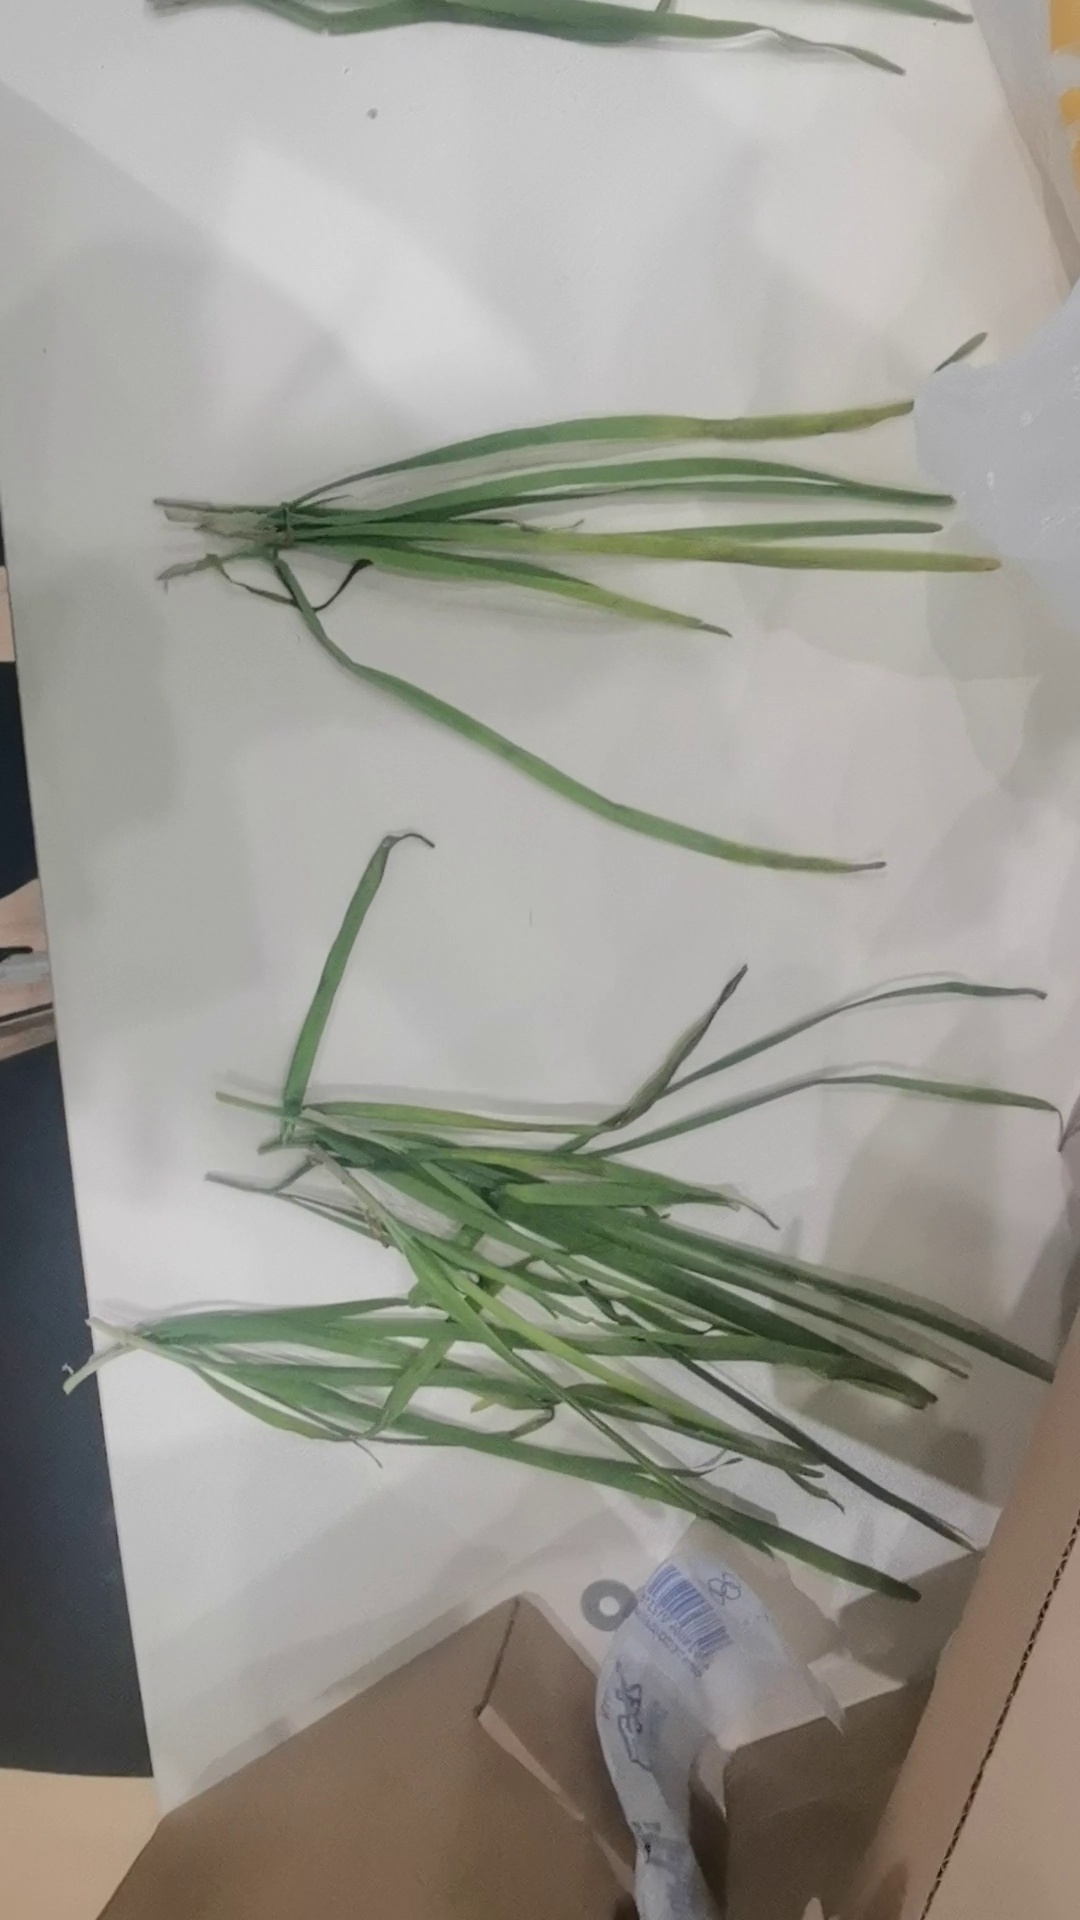chives: (32, 927, 1075, 1564), (114, 380, 1032, 829), (161, 1, 945, 74)
